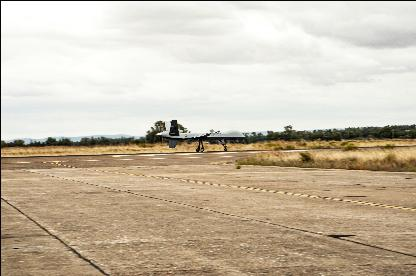MQ9: (156, 118, 249, 150)
